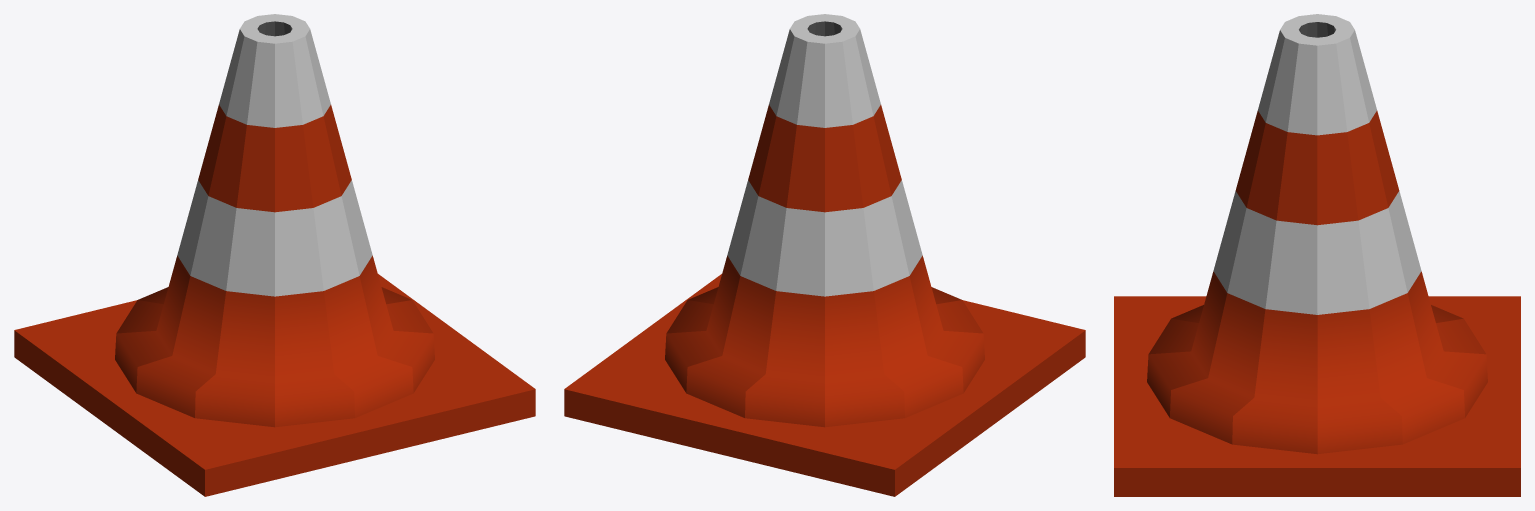
File: Pylone_lp.FBX
3 views of the same model, side by side, from view 1: azimuth 30°, elevation 25°; view 2: azimuth 150°, elevation 25°; view 3: azimuth 270°, elevation 25° (orthographic). The views are drawn at different scales.
Visible parts, largest first — view 1: Pylone_lp; view 2: Pylone_lp; view 3: Pylone_lp.
Boxes of the visible parts, x1,y1,x2,y2 form: Pylone_lp: (14,14,535,496); Pylone_lp: (564,14,1085,496); Pylone_lp: (1114,14,1520,496).
Size of the model in its own units: 0.4282 by 0.4428 by 0.4282.
